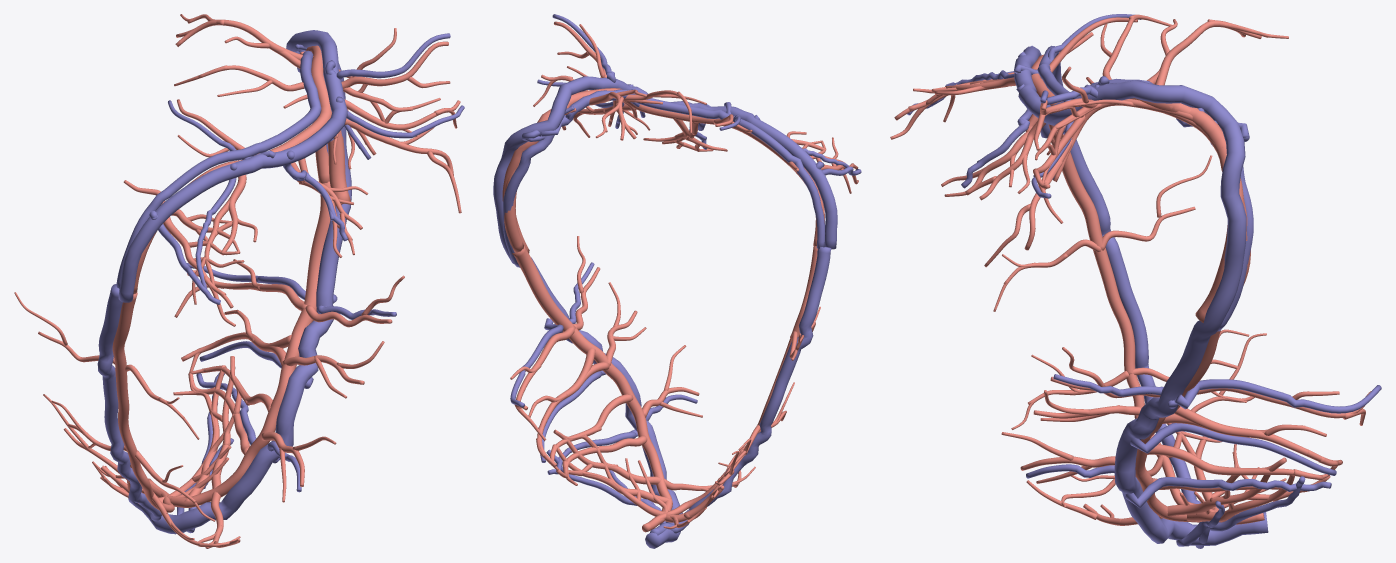
Rendered from vessels_54.glb.
The picture shows the model from 3 angles, left to right: view 1: azimuth 30°, elevation 25°; view 2: azimuth 150°, elevation 25°; view 3: azimuth 270°, elevation 25°; orthographic projection. The views are drawn at different scales.
Parts seen in each view (by area): view 1: Renderer Node; view 2: Renderer Node; view 3: Renderer Node.
Boxes of the visible parts, box(x1,y1,x2,y2) form: Renderer Node: box(14, 14, 464, 548); Renderer Node: box(493, 14, 861, 548); Renderer Node: box(890, 14, 1381, 548).
Bounding box in the file's own units: 94.78 × 122 × 95.43.
